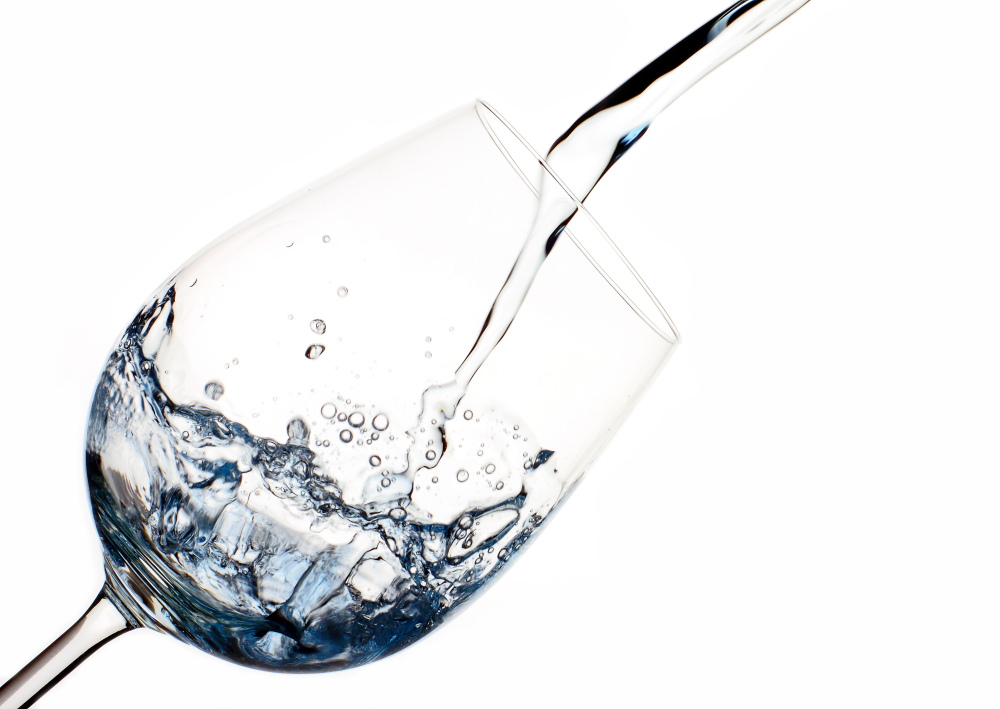glass of water: (8, 93, 743, 677)
